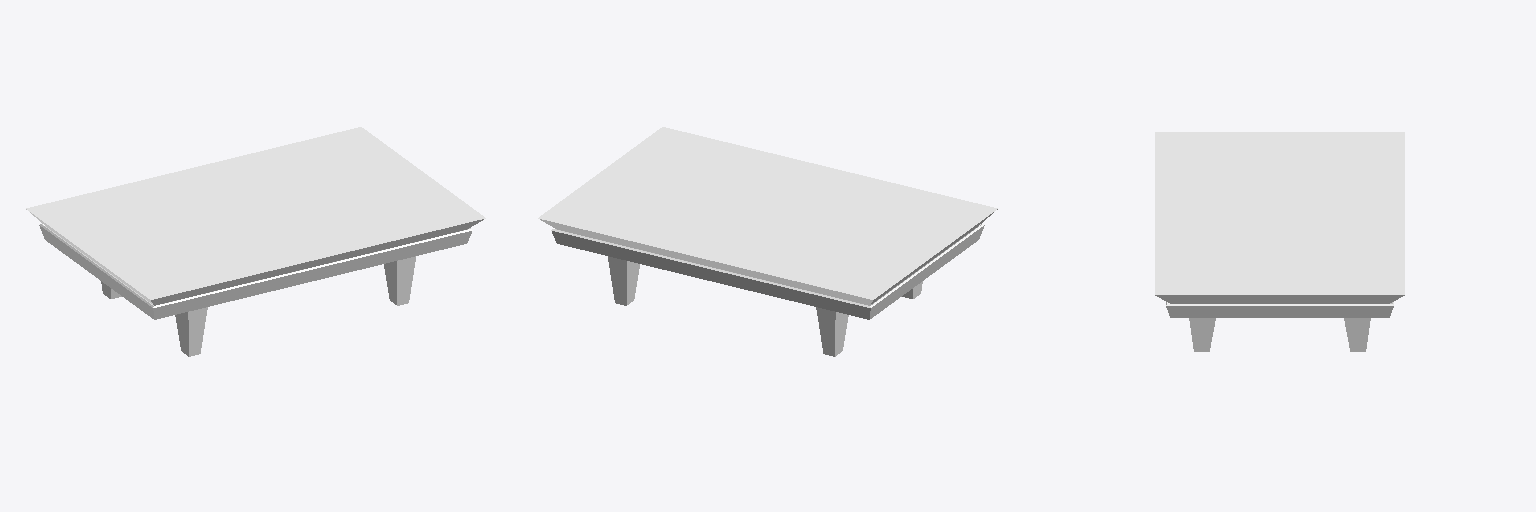
Rendered from TableLeg.obj.
3 renders of one model, left to right at view 1: azimuth 30°, elevation 25°; view 2: azimuth 150°, elevation 25°; view 3: azimuth 270°, elevation 25°, orthographic.
Parts seen in each view (by area): view 1: Table_Legs_Mesh.002; view 2: Table_Legs_Mesh.002; view 3: Table_Legs_Mesh.002.
Part boxes in pixels (left/top/right/bottom): Table_Legs_Mesh.002: left=26, top=127, right=485, bottom=356; Table_Legs_Mesh.002: left=538, top=127, right=997, bottom=356; Table_Legs_Mesh.002: left=1155, top=132, right=1404, bottom=351.
Size of the model in its own units: 8.52 by 2.06 by 5.5.